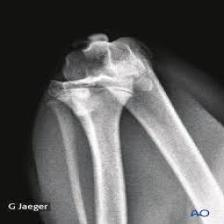comminuted-fracture: (30, 6, 224, 224)
